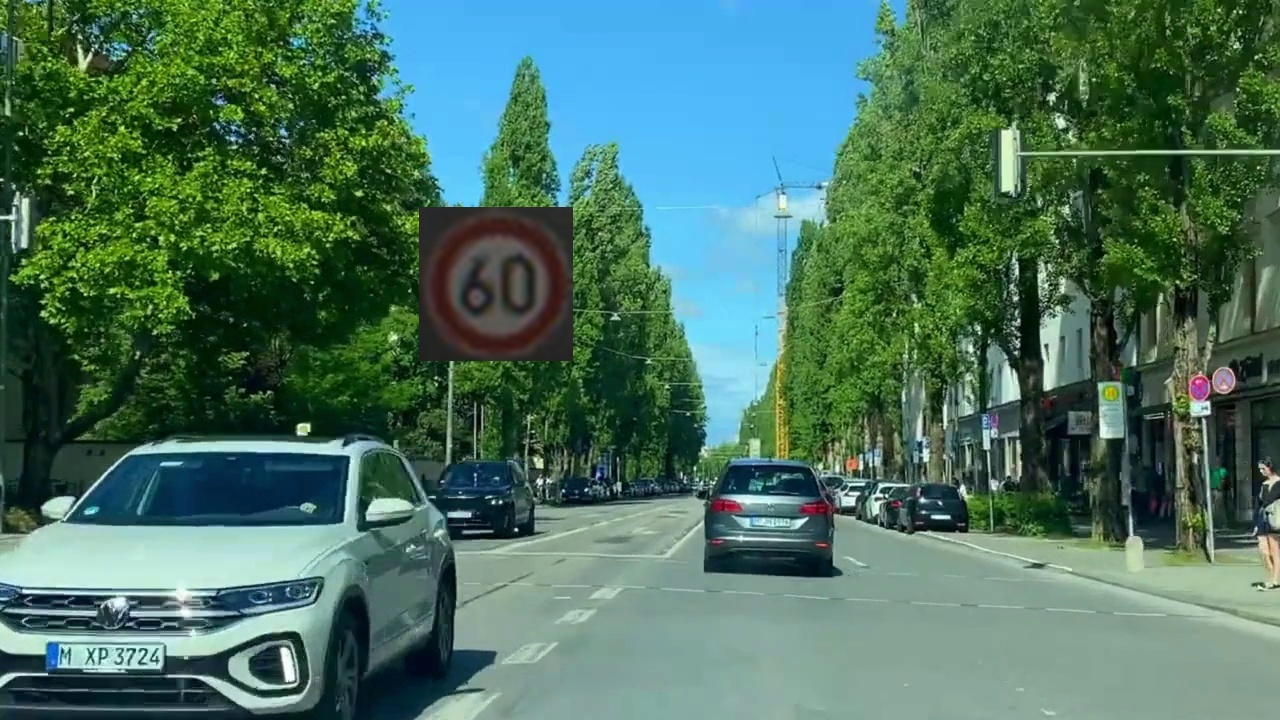Speed 60: (419, 207, 573, 361)
